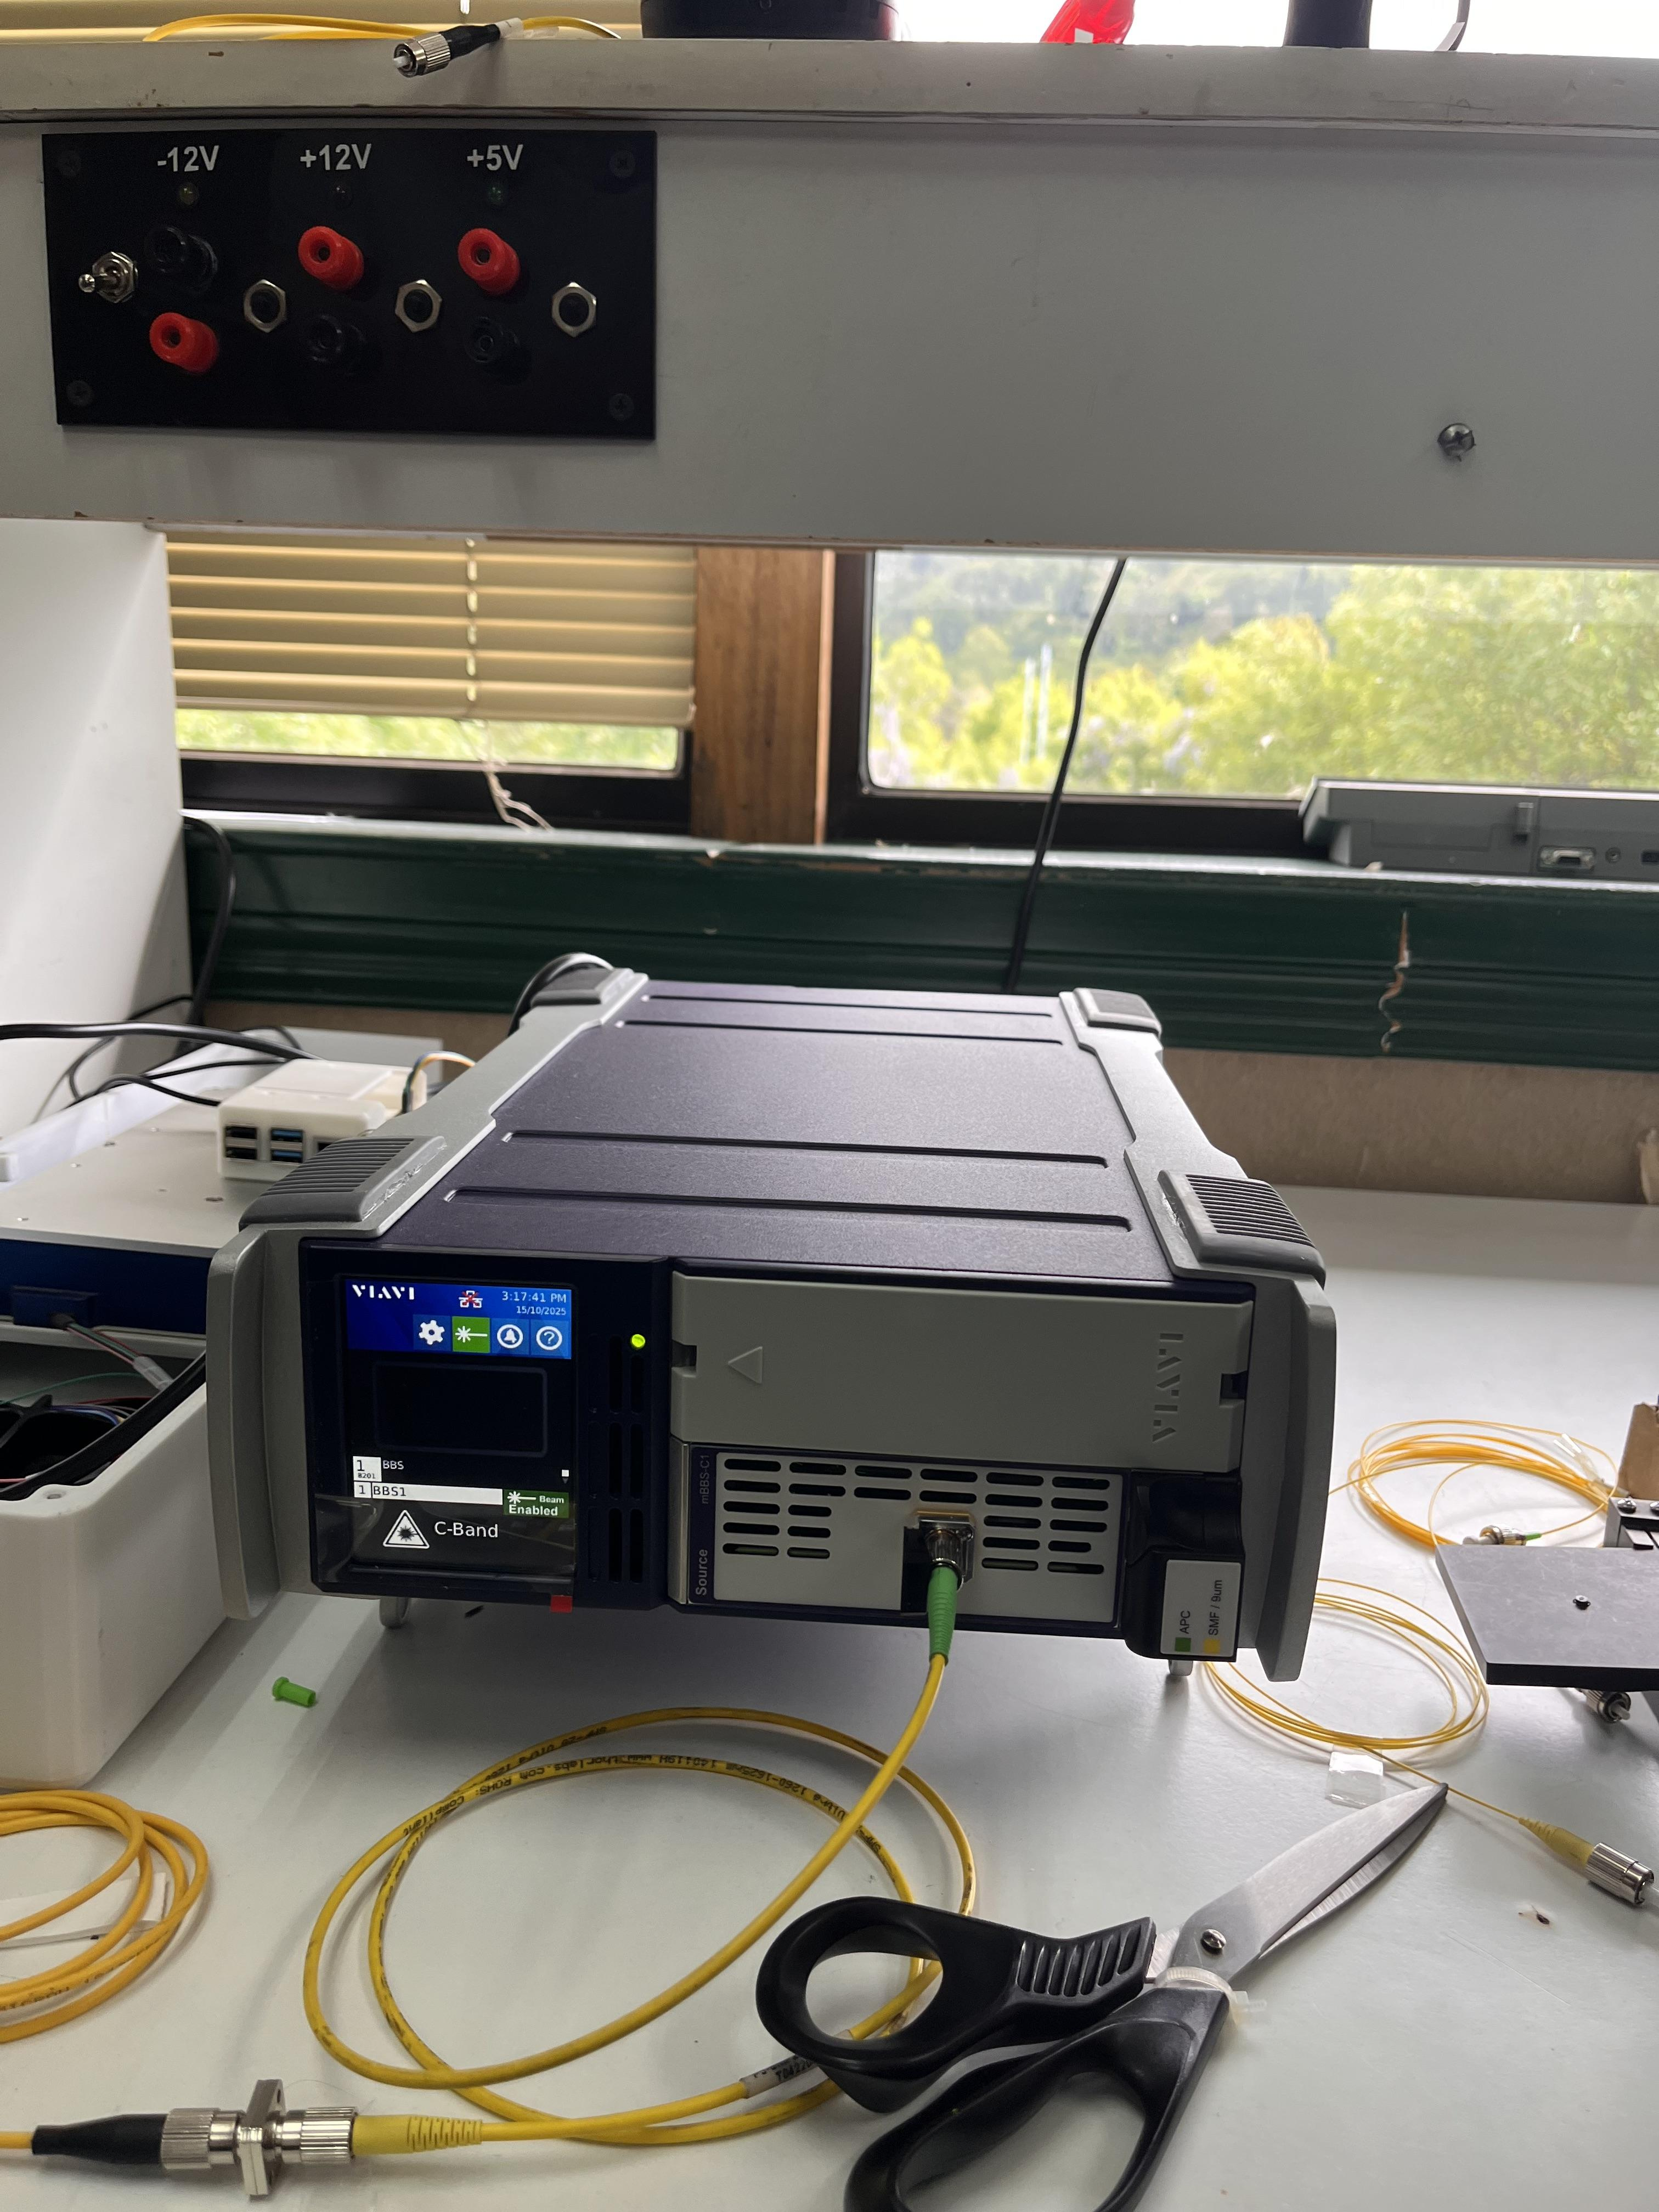laser: (188, 964, 1353, 1692)
